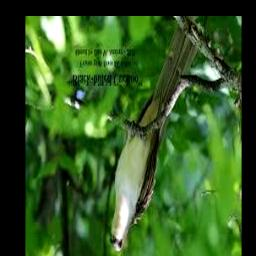Cuckoo: (110, 16, 204, 251)
